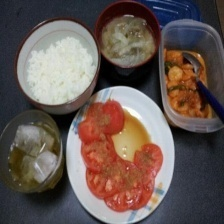rice: (24, 37, 95, 103)
